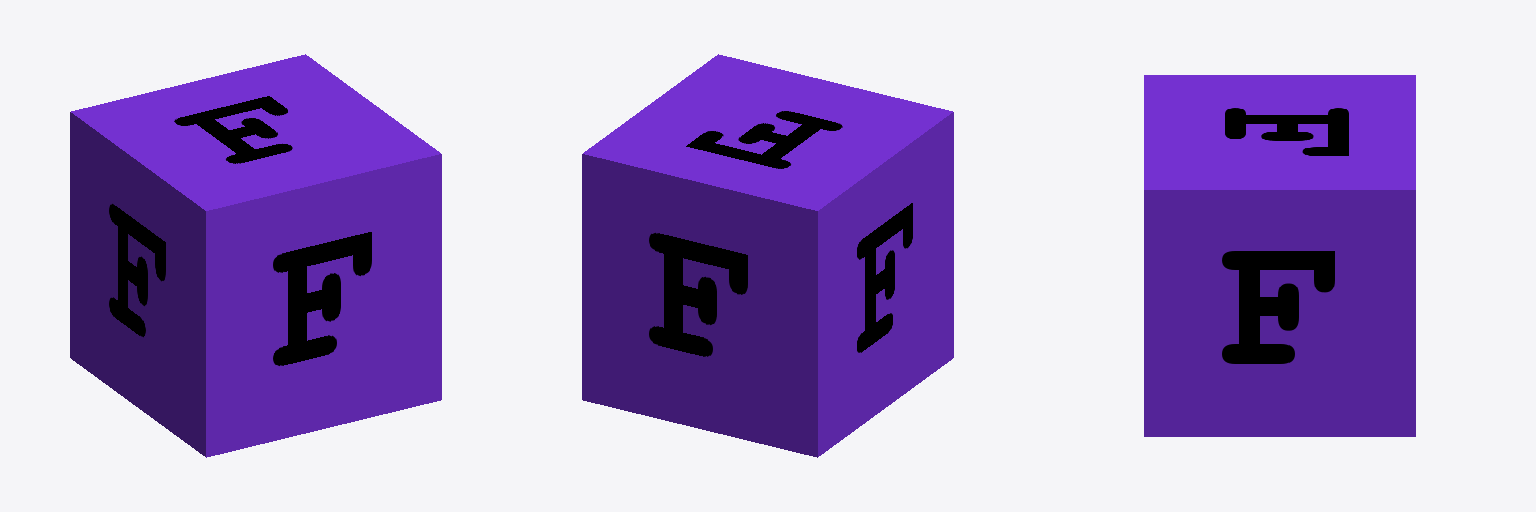
The picture shows the model from 3 angles: view 1: azimuth 30°, elevation 25°; view 2: azimuth 150°, elevation 25°; view 3: azimuth 270°, elevation 25°; orthographic projection.
Parts seen in each view (by area): view 1: cube; view 2: cube; view 3: cube.
Part boxes in pixels (x1,y1,x2,y2): cube: (70, 54, 441, 457); cube: (582, 54, 953, 457); cube: (1144, 75, 1415, 436).
Bounding box in the file's own units: 1 × 1 × 1.
1 materials, 1 textured.